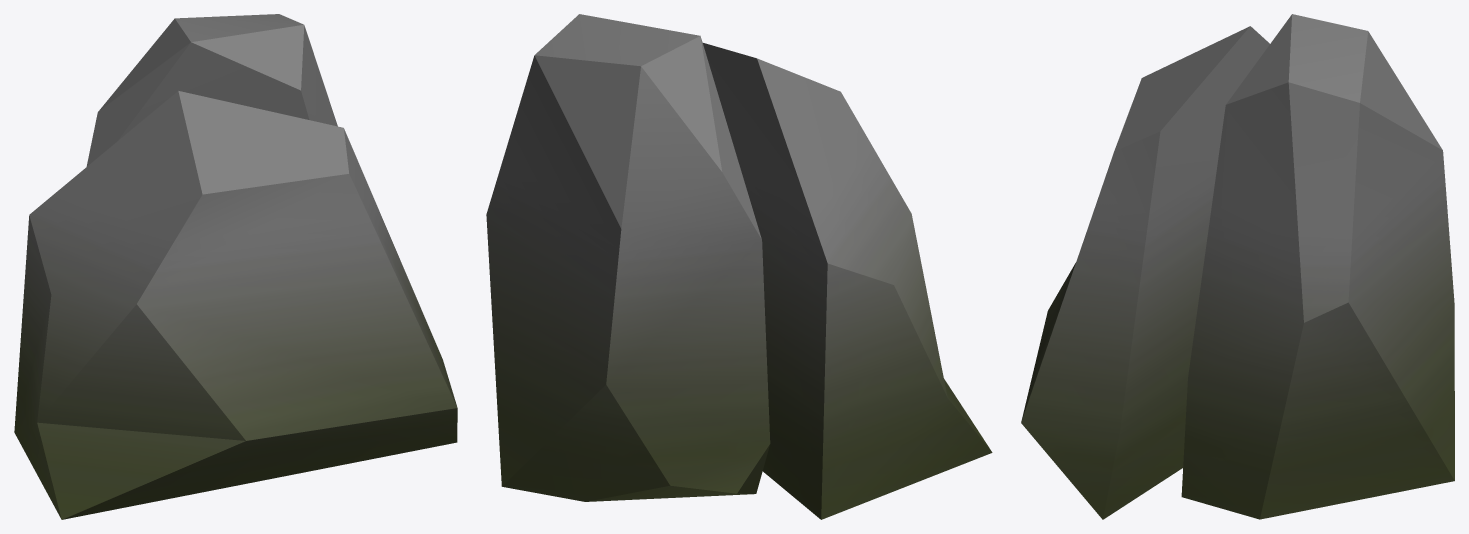
The model's file is ea_environment_stone_moss_01b_pre__15__lev1.glb.
3 views of the same model, side by side, from view 1: azimuth 30°, elevation 25°; view 2: azimuth 150°, elevation 25°; view 3: azimuth 270°, elevation 25° (orthographic). The views are drawn at different scales.
Visible parts, largest first — view 1: ea_environment_stone_moss_01b_pre__15__lev1; view 2: ea_environment_stone_moss_01b_pre__15__lev1; view 3: ea_environment_stone_moss_01b_pre__15__lev1.
Boxes of the visible parts, x1,y1,x2,y2 form: ea_environment_stone_moss_01b_pre__15__lev1: (14, 14, 457, 519); ea_environment_stone_moss_01b_pre__15__lev1: (486, 14, 992, 519); ea_environment_stone_moss_01b_pre__15__lev1: (1021, 14, 1454, 519).
Bounding box in the file's own units: 1.46 × 1.41 × 1.35.
1 material, 1 textured.
